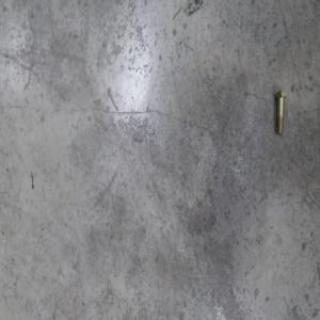Bolttrack_idkeyframe: (272, 90, 285, 135)
